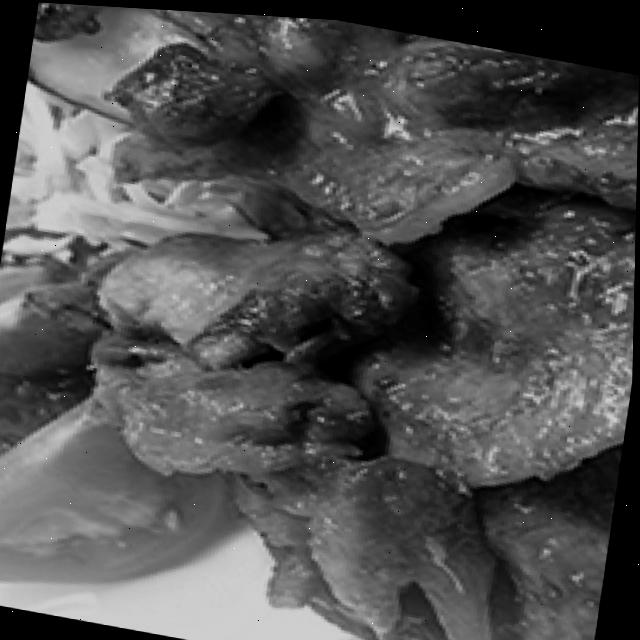猪肉菜式: (0, 0, 640, 566)
